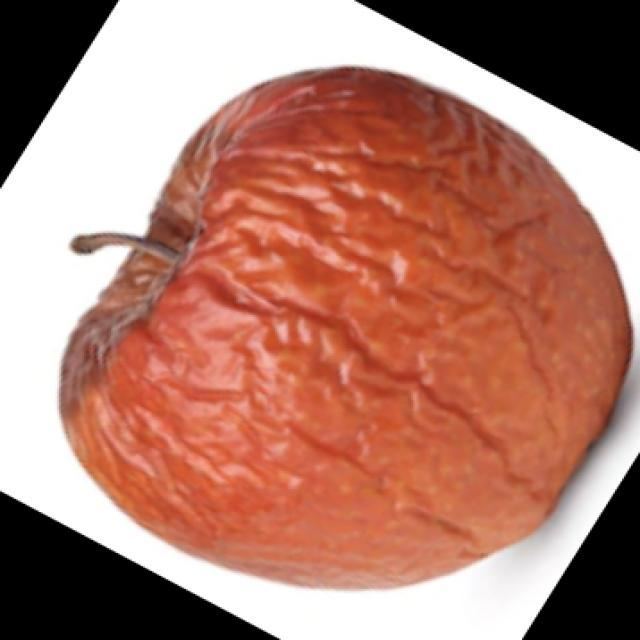Rotten: (51, 64, 632, 594)
